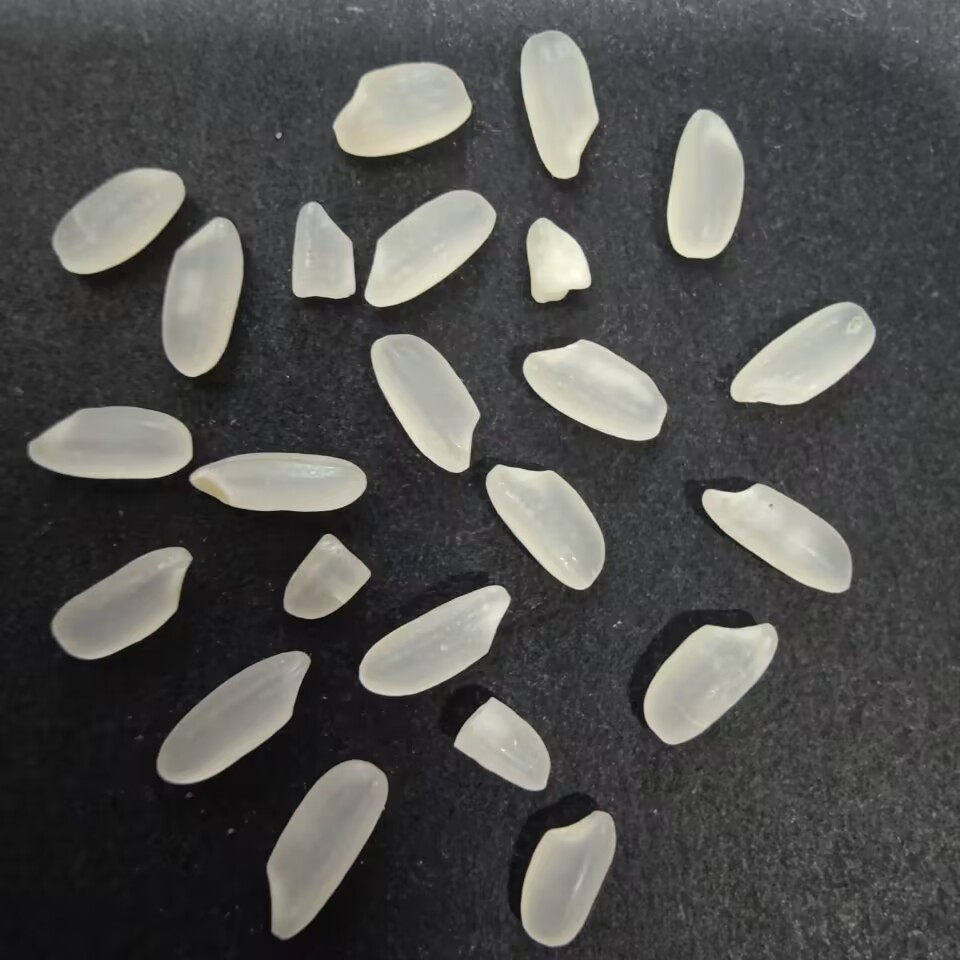broken: (448, 695, 557, 797), (276, 528, 379, 625), (288, 199, 361, 305), (525, 213, 595, 308)
rice: (258, 753, 392, 946), (146, 646, 312, 790), (698, 477, 855, 603), (44, 541, 200, 665), (352, 582, 513, 702), (635, 620, 785, 748), (720, 296, 884, 409), (359, 183, 499, 312), (364, 328, 484, 478), (483, 458, 613, 594), (518, 335, 673, 446), (49, 164, 189, 279), (512, 805, 623, 949), (328, 57, 476, 165), (158, 210, 248, 379), (21, 404, 197, 482), (184, 446, 374, 516), (516, 23, 598, 184), (665, 105, 749, 262)
